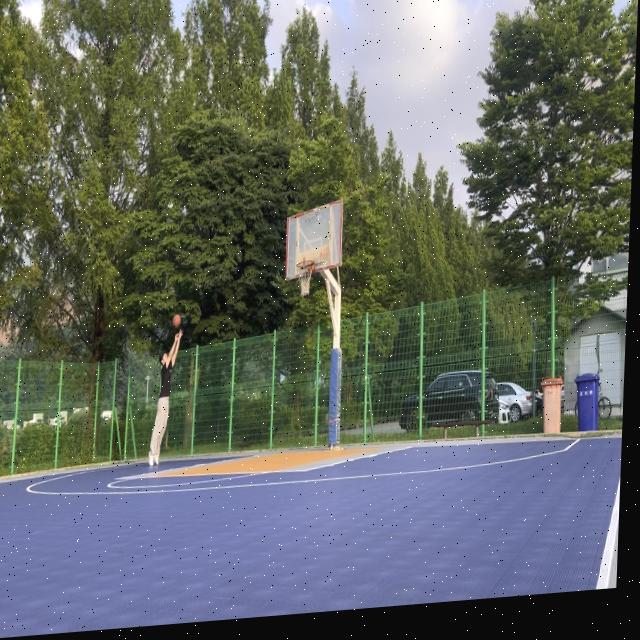basketball: (172, 313, 181, 329)
hoop: (296, 259, 315, 298)
